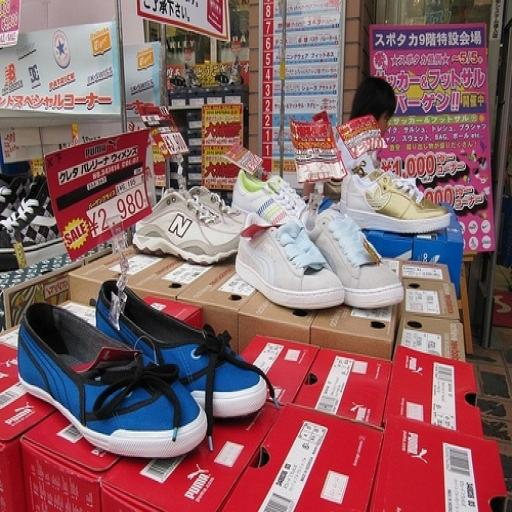shoe: (96, 280, 274, 446), (17, 304, 207, 458), (236, 213, 345, 309), (304, 207, 404, 309), (133, 189, 241, 265), (340, 168, 451, 234), (0, 175, 66, 271), (233, 169, 306, 226), (187, 185, 246, 234), (0, 175, 32, 220)
